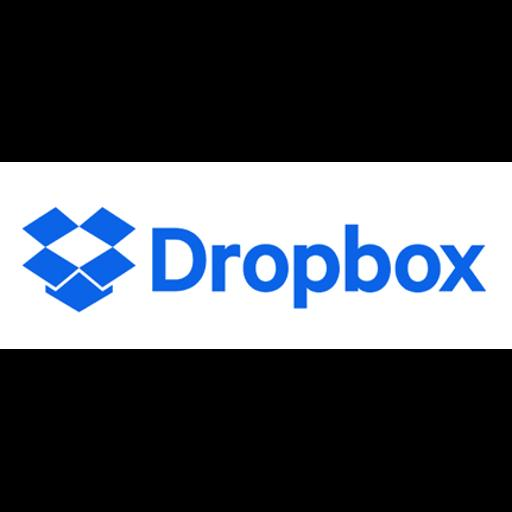Dropbox: (0, 162, 512, 349)
